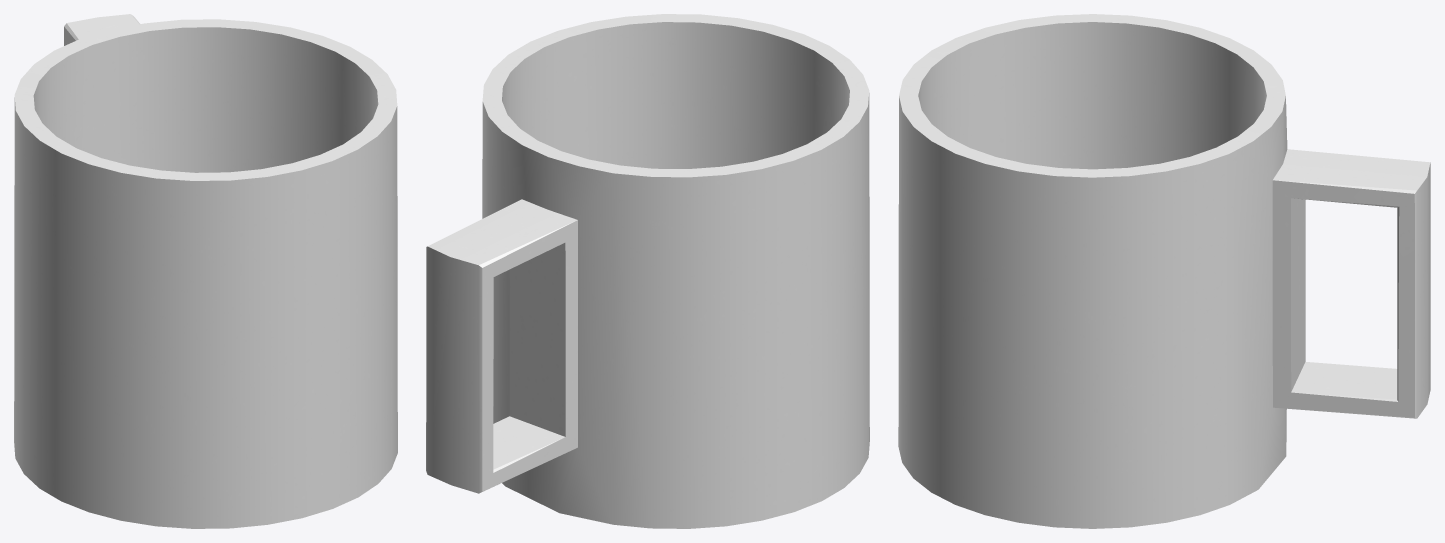
File: KruJKa V 2.0.fbx
3 views of the same model, side by side, from view 1: azimuth 30°, elevation 25°; view 2: azimuth 150°, elevation 25°; view 3: azimuth 270°, elevation 25° (orthographic).
Visible parts, largest first — view 1: Кружка.010; view 2: Кружка.010; view 3: Кружка.010.
Boxes of the visible parts, x1,y1,x2,y2 form: Кружка.010: (14,14,397,528); Кружка.010: (426,14,869,528); Кружка.010: (898,14,1430,528).
Size of the model in its own units: 10 by 9.98 by 13.7.
Materials: 1 (1 with a texture image).
